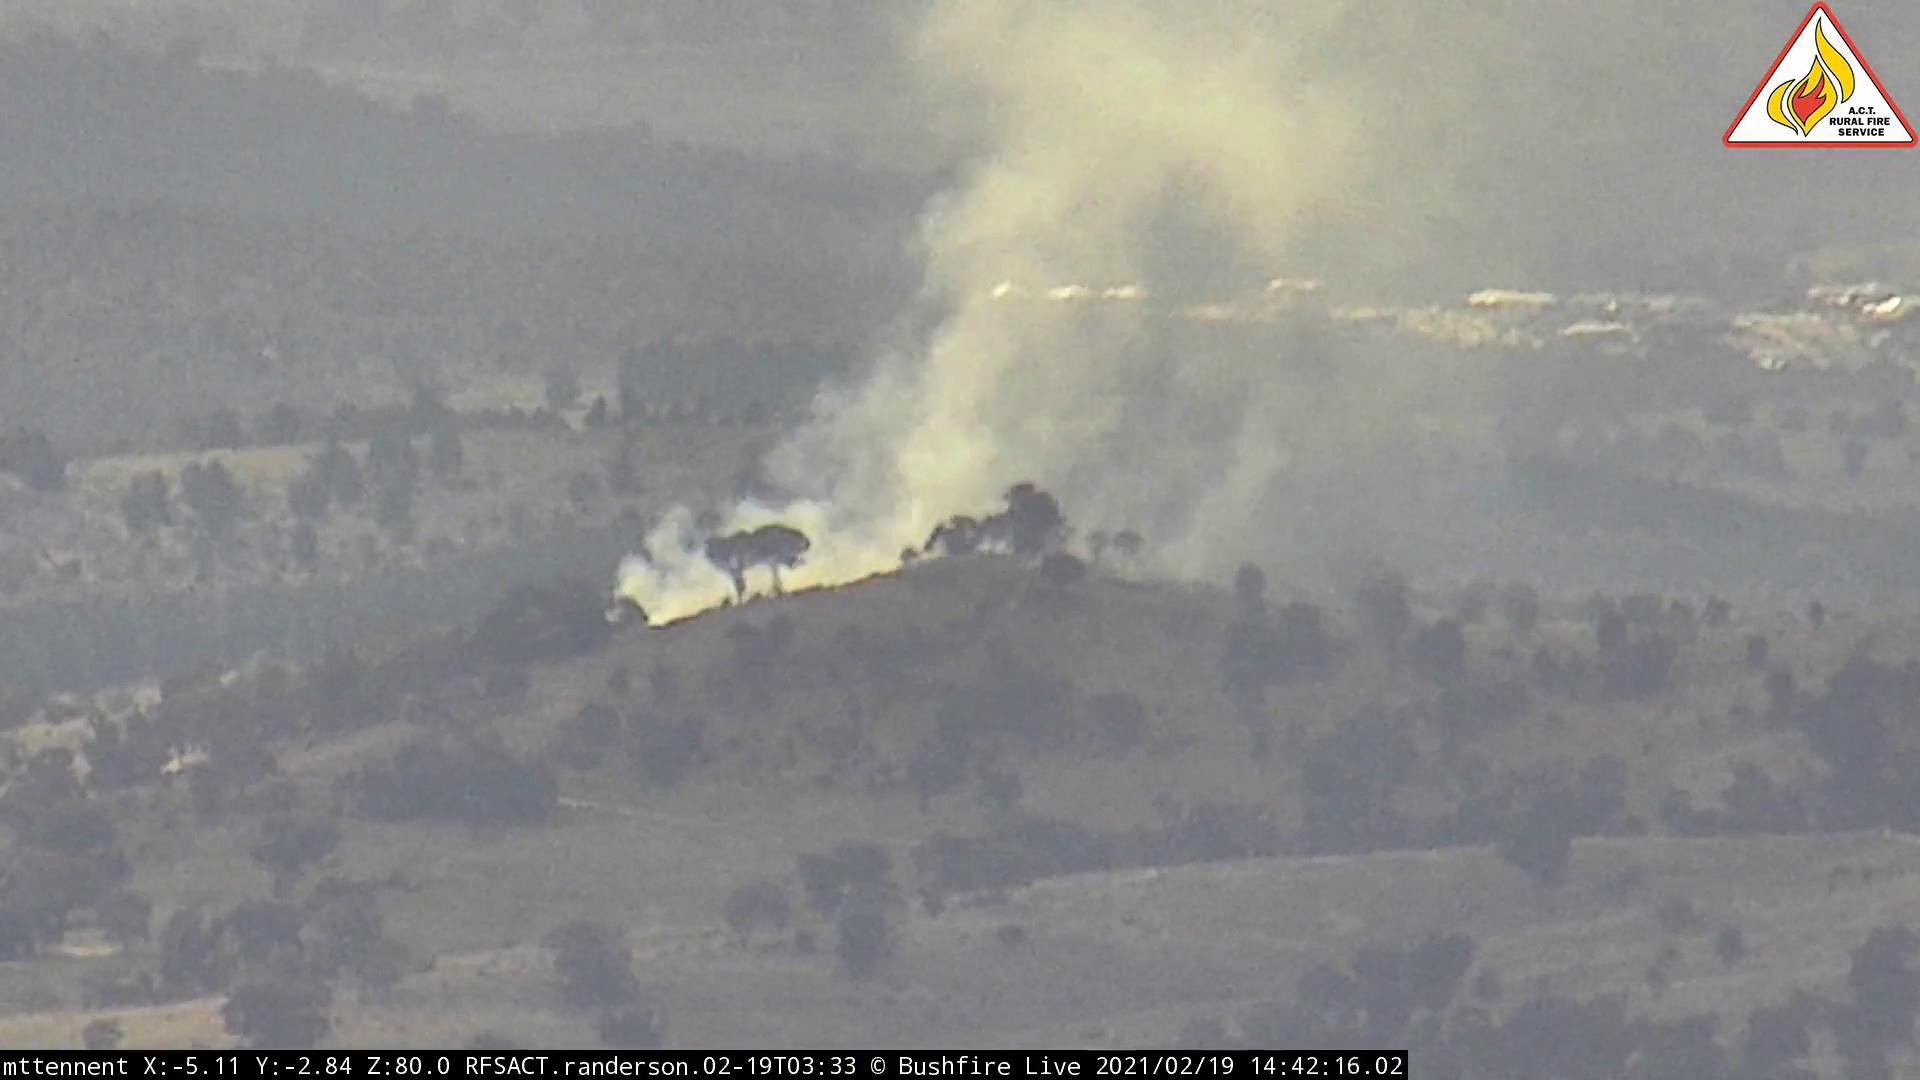instance_salient_object: (601, 3, 1443, 647)
